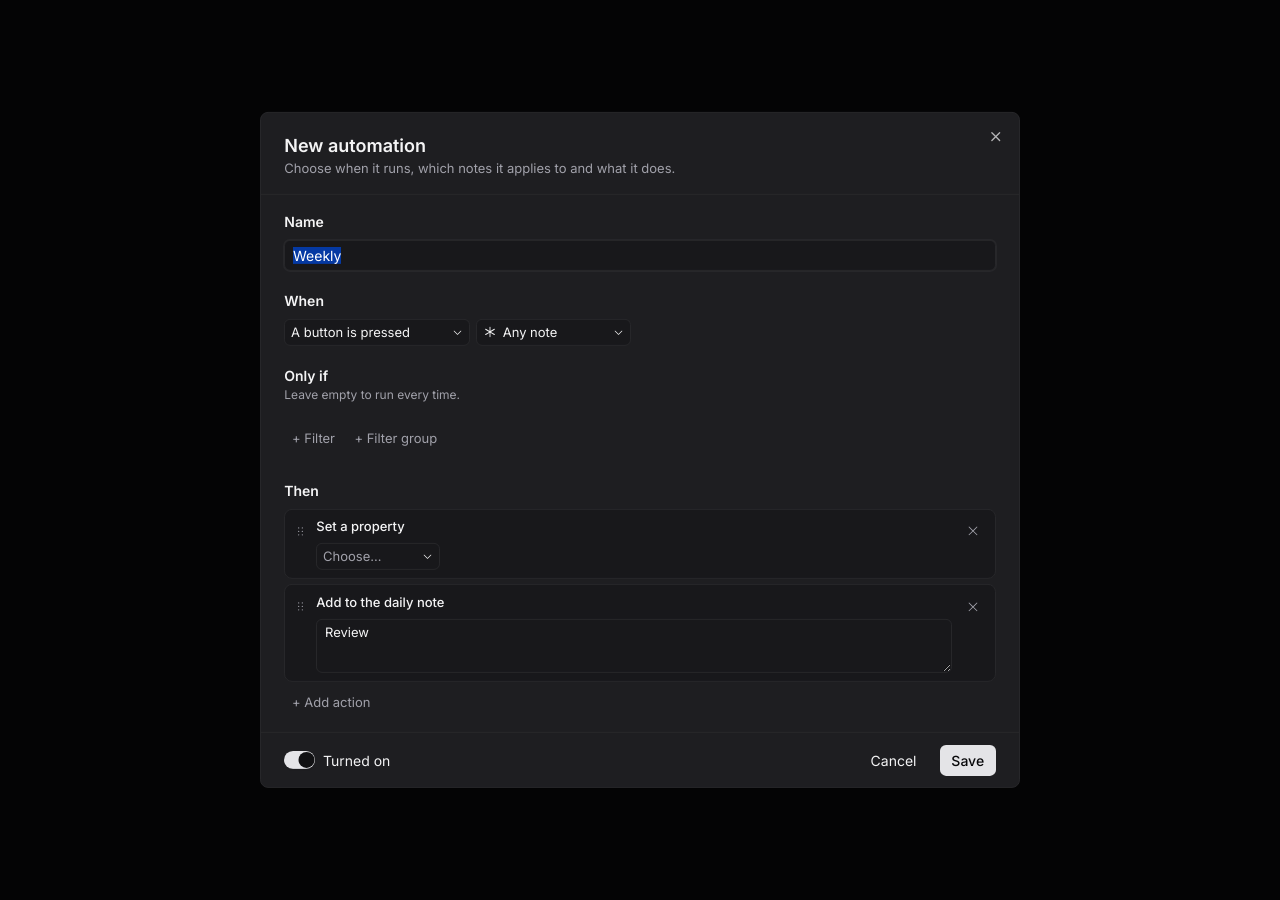
Scenario: RuleEditorDialog › a schedule drops conditions and object actions
The image size is (1280, 900).
Later steps or results of the test are not shown.
Click the button with aria-label "Trigger" at (377, 332), box [284,319,470,346]
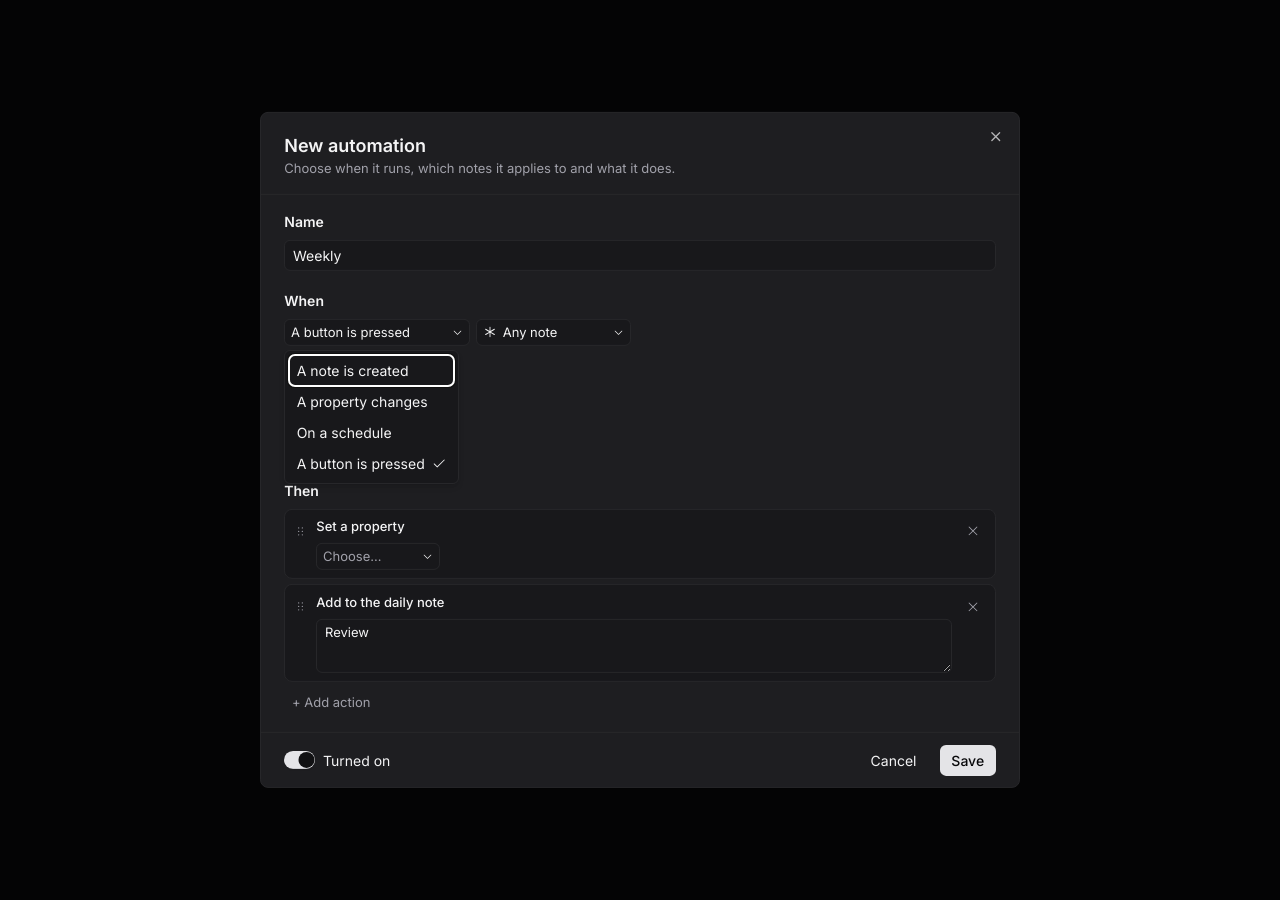
Click the menu item "On a schedule" at (372, 432), box [289,417,454,448]
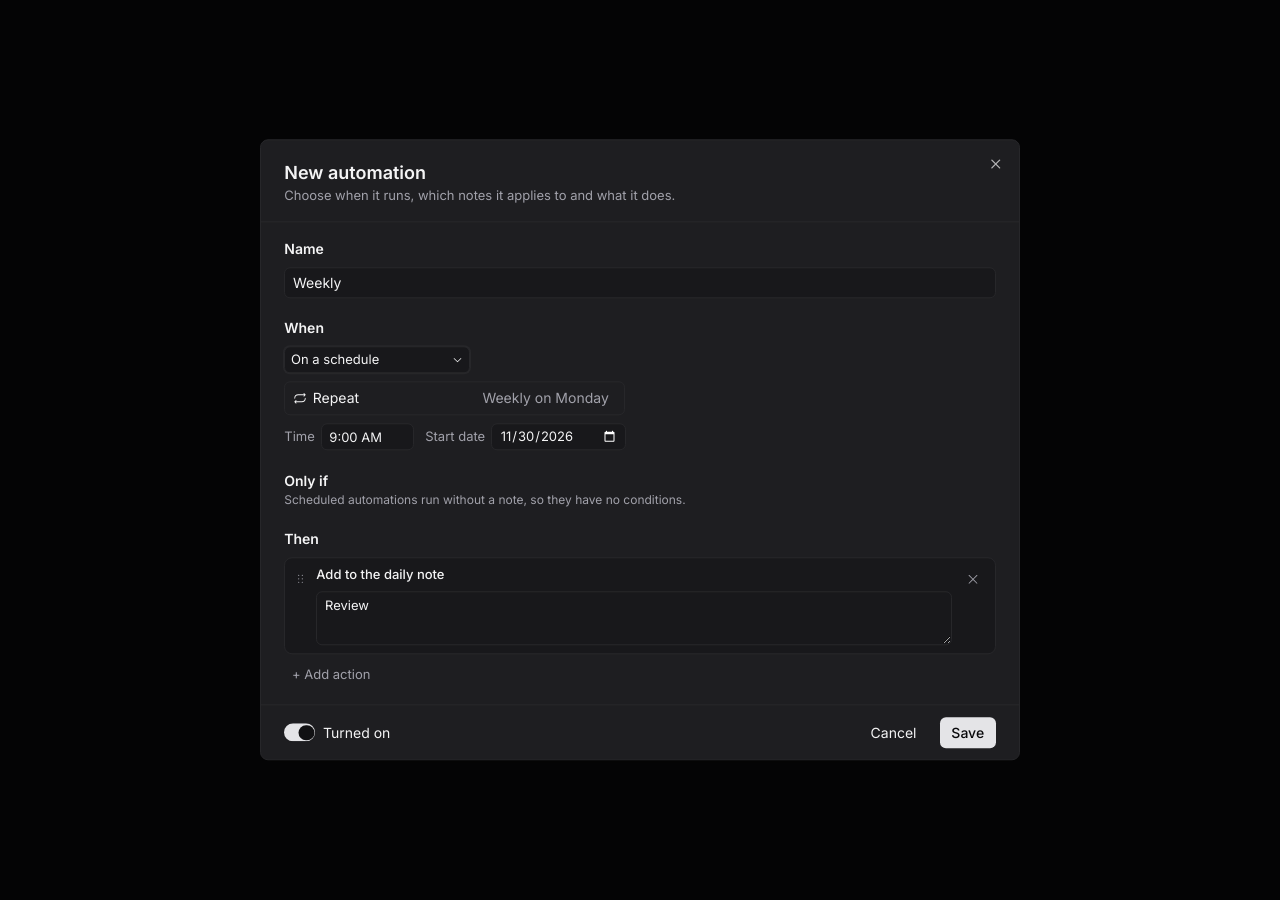
expect the text "Scheduled automations run without a note, so they have no conditions." is shown: met, box [284,492,686,507]
